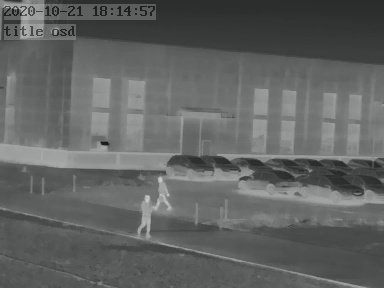person: (155, 175, 174, 212), (140, 191, 156, 233)
vehicle: (303, 172, 363, 203), (239, 168, 304, 193), (164, 152, 212, 179), (348, 172, 384, 204), (203, 153, 242, 177), (261, 155, 300, 171), (232, 155, 270, 171), (347, 156, 378, 170), (318, 156, 347, 169), (296, 156, 324, 169)
